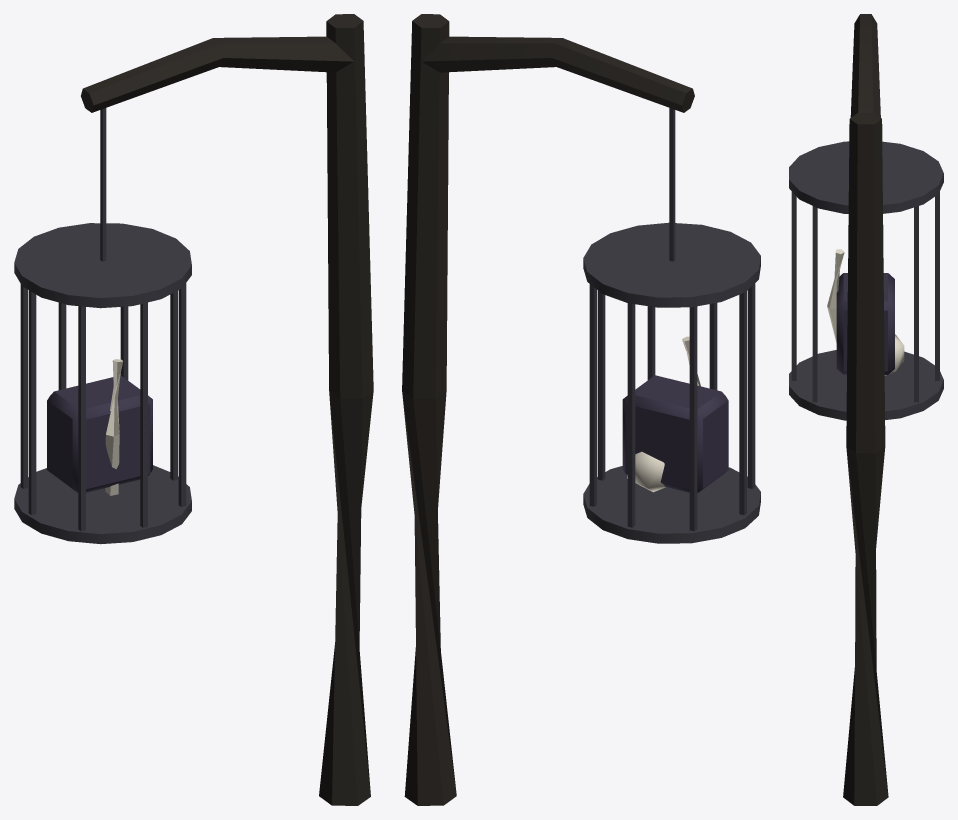
Rendered from hangcage.glb.
The picture shows the model from 3 angles, left to right: view 1: azimuth 30°, elevation 25°; view 2: azimuth 150°, elevation 25°; view 3: azimuth 270°, elevation 25°; orthographic projection. The views are drawn at different scales.
Visible parts, largest first — view 1: cage; view 2: cage; view 3: cage.
Boxes of the visible parts, bbox=[...] form: cage: bbox=[14, 14, 373, 805]; cage: bbox=[402, 14, 760, 805]; cage: bbox=[789, 14, 943, 805].
Size of the model in its own units: 1.06 by 2.34 by 0.4759.
